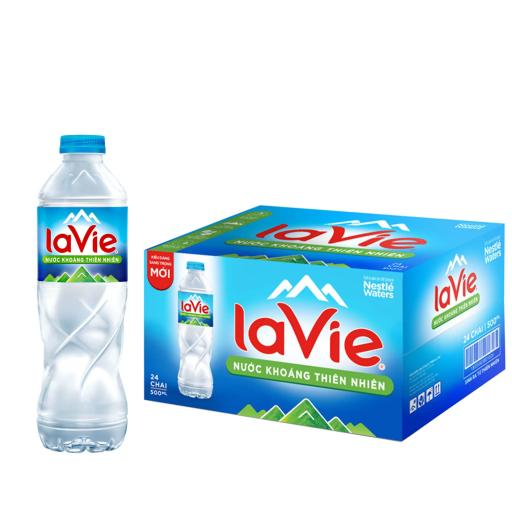bottle: (37, 134, 128, 453)
